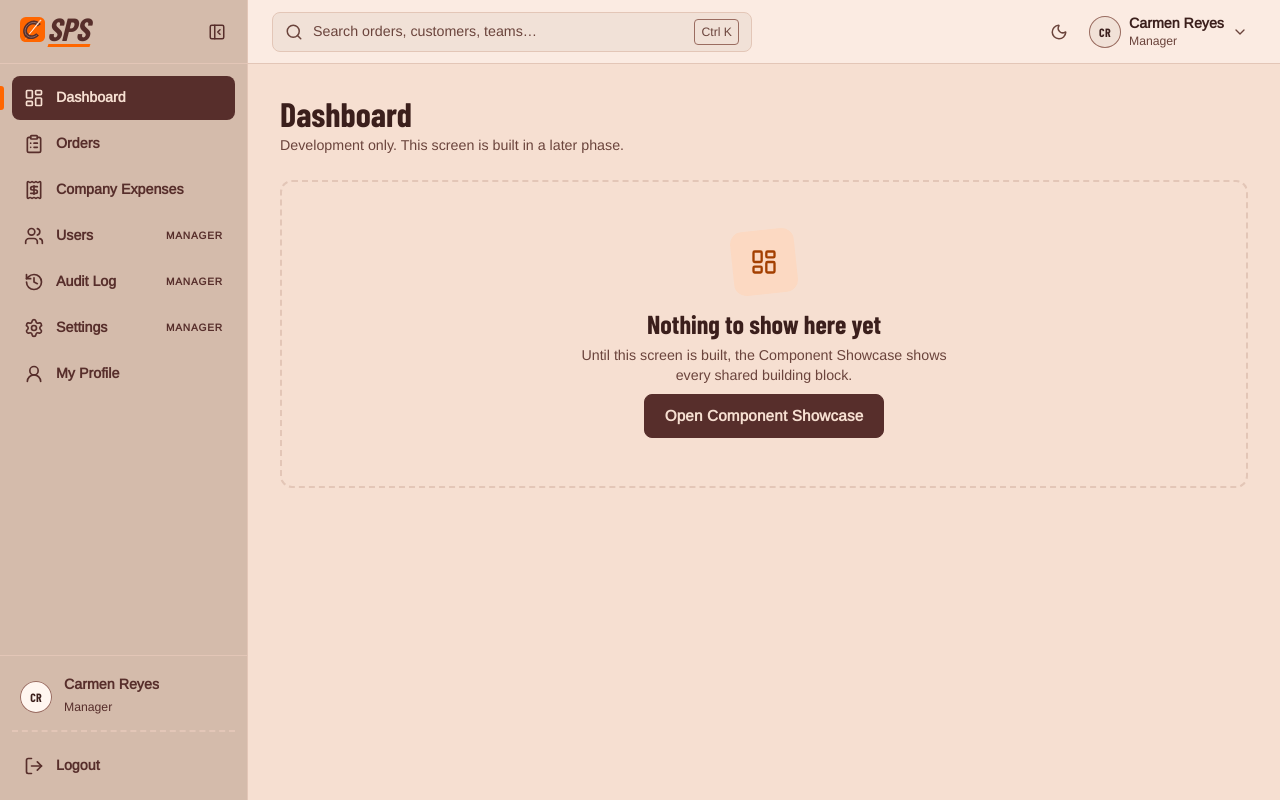
AdminLayout sections (D-20, A11Y-04) › follows a sidebar navigation: choosing Orders makes Orders current and retitles the page
This screenshot has width=1280, height=800.
Expected: the heading "Dashboard" is shown, [280,93,412,134]
Click the link "Orders": (62, 144) [24,134,100,154]
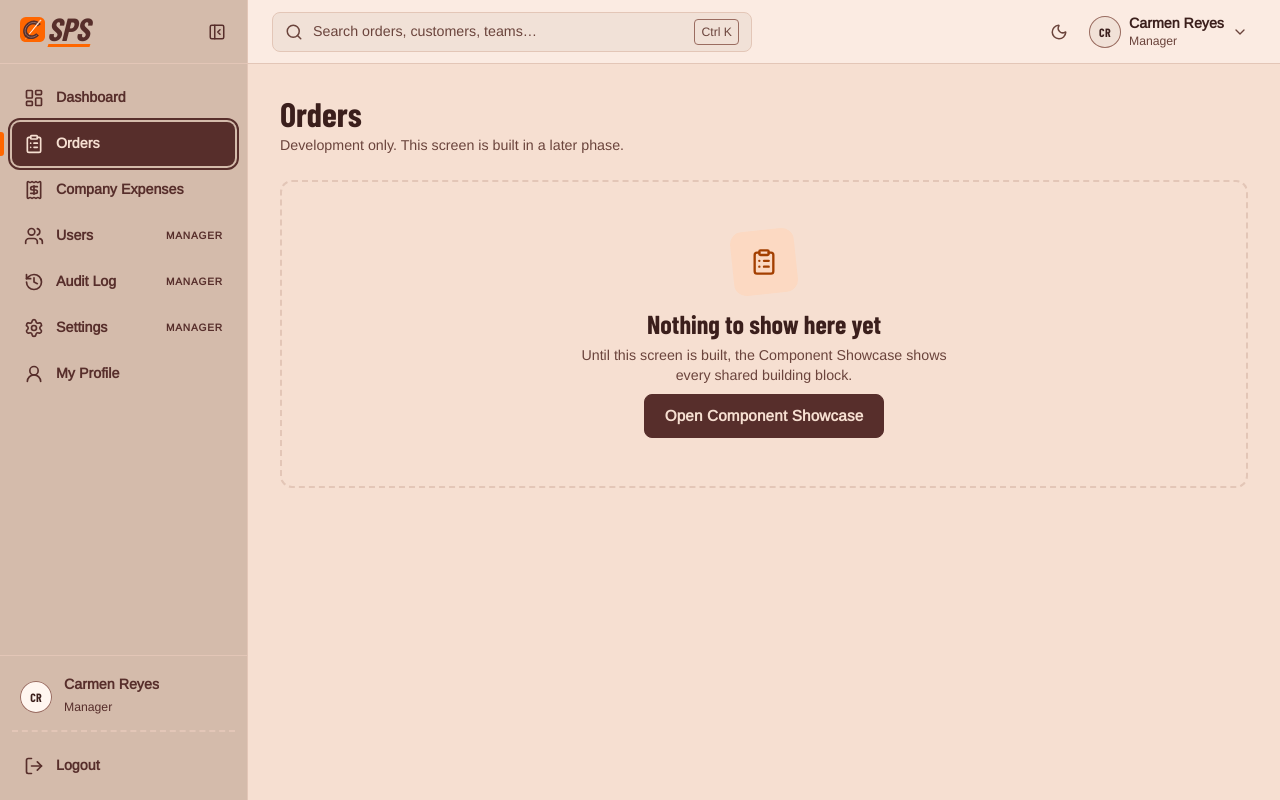
Expected: the heading "Orders" is shown, [280,93,362,134]
